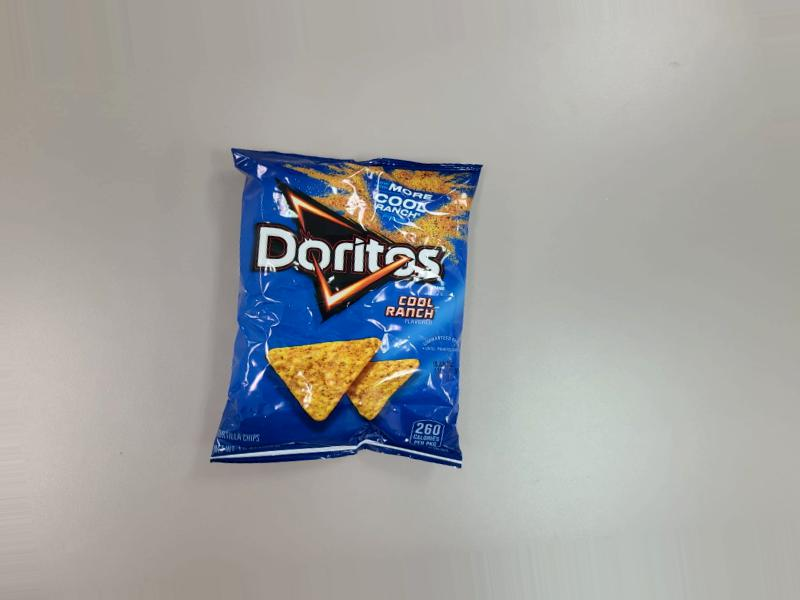doritos: (216, 144, 445, 472)
